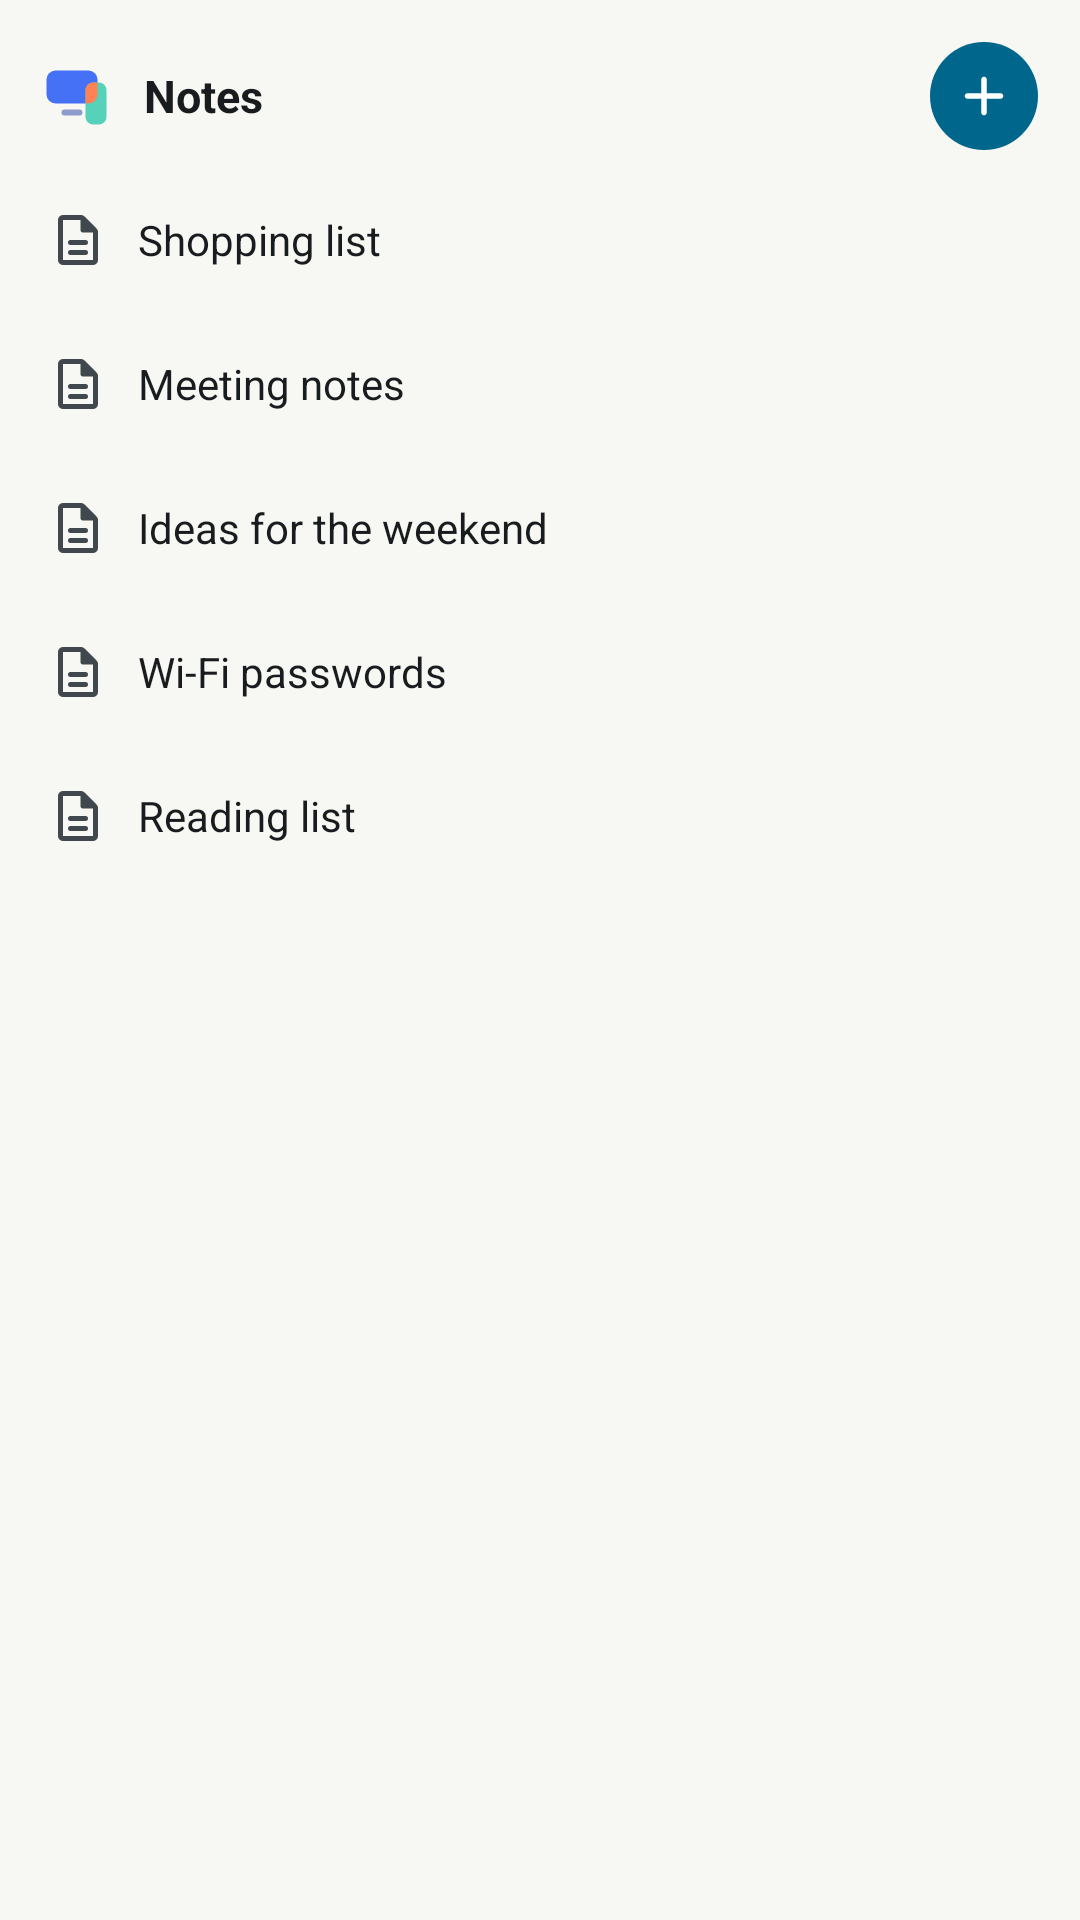

Icons on this 1080 x 1920 Android screen, each with the point to tap as [x,y]:
New note: [984,96]
widget note: [78,240], [78,384], [78,528], [78,672], [78,816]
